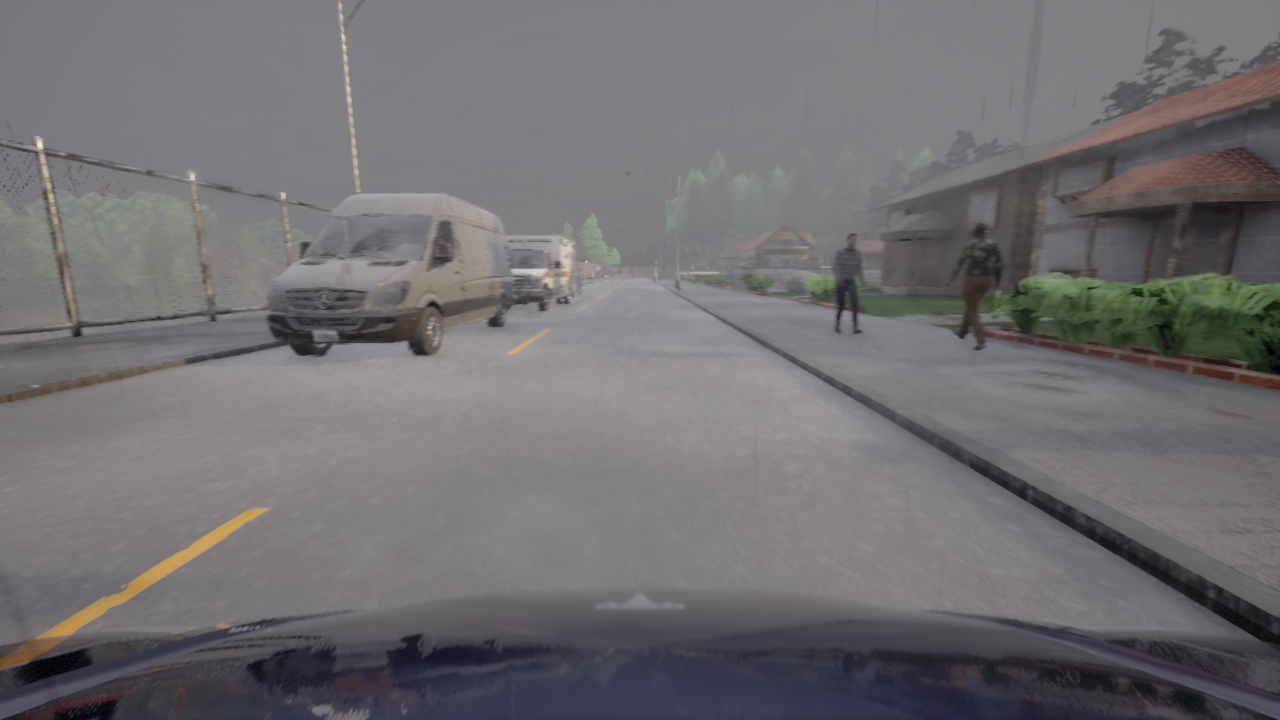cyclist: (0, 588, 1279, 719), (266, 193, 513, 355), (506, 236, 576, 312), (571, 270, 581, 297)
pedestrian: (945, 221, 1002, 350), (831, 233, 865, 334)
